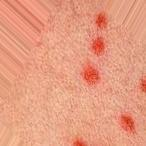Fleas: (77, 59, 105, 88), (115, 108, 139, 137), (94, 11, 108, 29), (91, 36, 104, 55), (72, 137, 87, 145), (140, 76, 145, 91)
